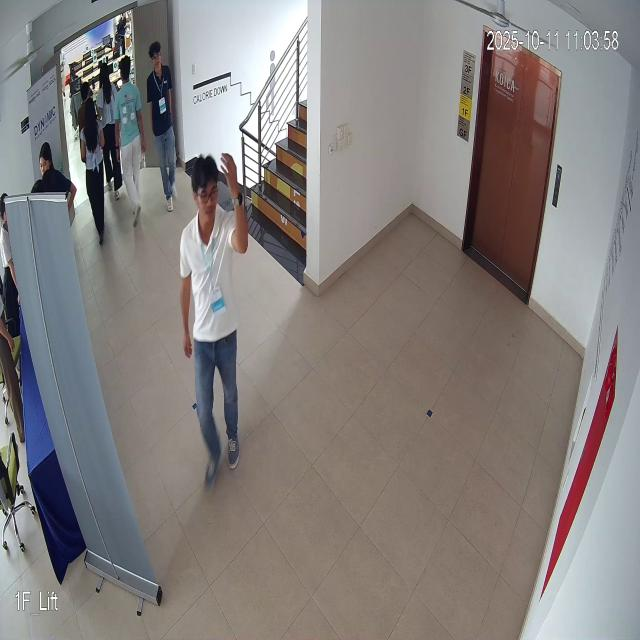face: (190, 156, 222, 231)
